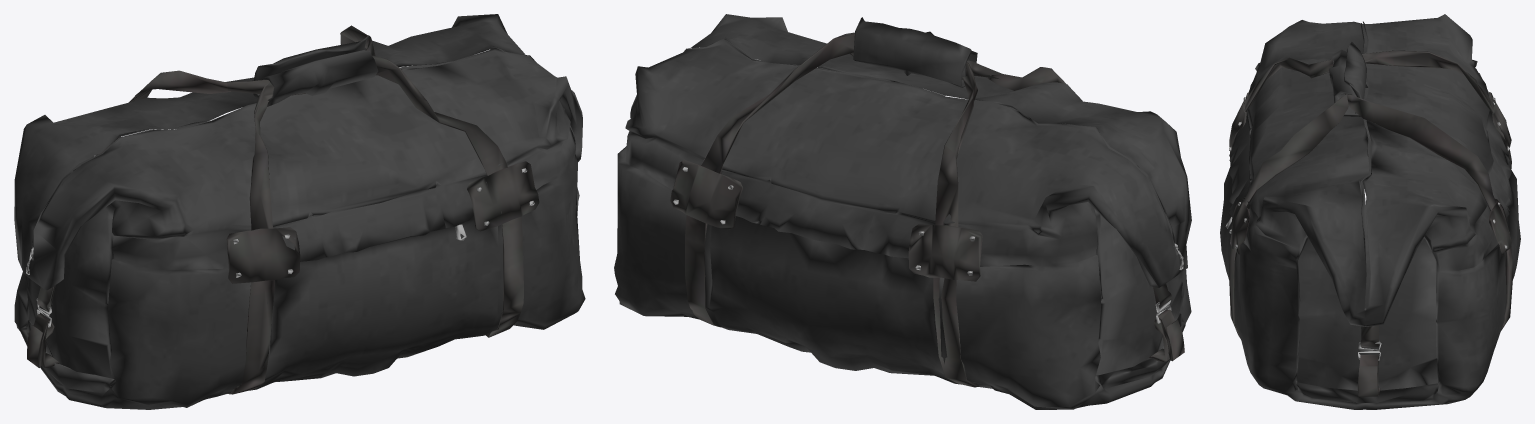
The model's file is hvbag_tote_bag.glb.
The picture shows the model from 3 angles, left to right: view 1: azimuth 30°, elevation 25°; view 2: azimuth 150°, elevation 25°; view 3: azimuth 270°, elevation 25°; orthographic projection. The views are drawn at different scales.
Visible parts, largest first — view 1: BP_tote_bag; view 2: BP_tote_bag; view 3: BP_tote_bag.
Boxes of the visible parts, x1,y1,x2,y2 form: BP_tote_bag: (14, 14, 585, 409); BP_tote_bag: (614, 14, 1191, 409); BP_tote_bag: (1220, 14, 1520, 409).
Bounding box in the file's own units: 0.4953 × 0.2528 × 0.2752.
4 materials, 2 textured.
